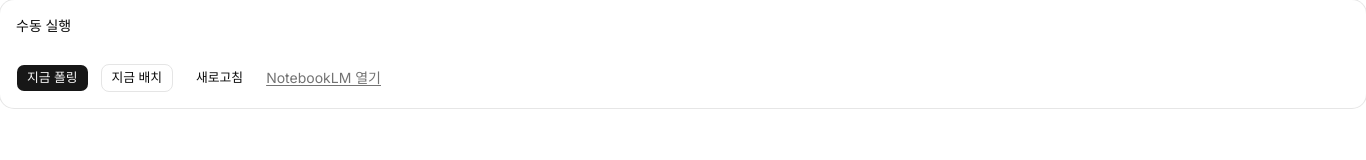
Test: TriggerPanel › poll 성공 시 '폴링 완료' 메시지 표시
Click the button "지금 폴링" at (52, 78), box [16,64,88,92]
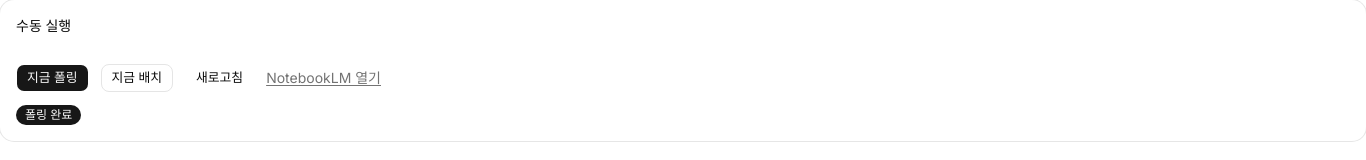
Expected: the text "폴링 완료" is shown, [16,105,81,125]
